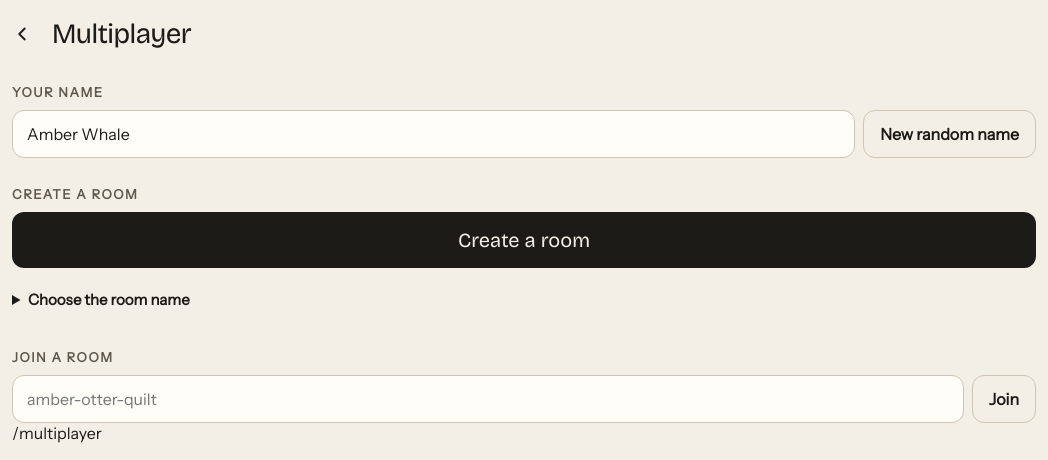
Test case: the lobby › shows the ready countdown once more than half are ready
What coordinates should you click on to do the following:
click the button "Create a room"
I would click on:
 (524, 240)
Its box is x1=12 y1=212 x2=1036 y2=268.
Wait 600 ms
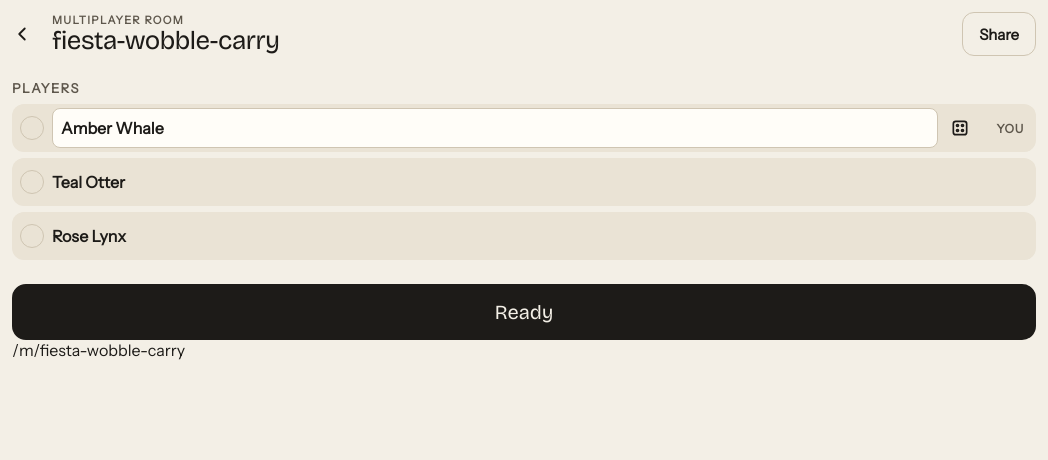
What coordinates should you click on to do the following:
click the button "Ready"
I would click on:
 (524, 312)
Its box is x1=12 y1=284 x2=1036 y2=340.
Wait 200 ms
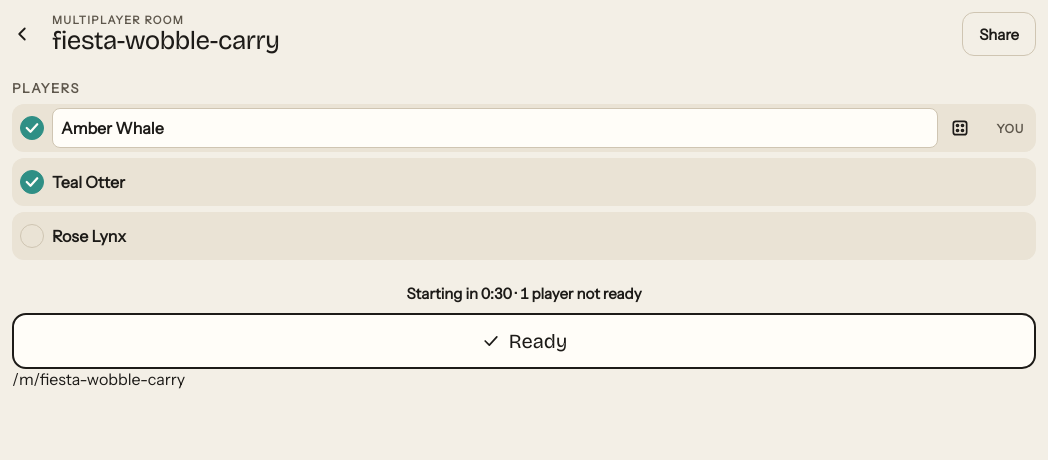
Expected: the text "Starting in 0:30 · 1 player not ready" is shown, x1=406 y1=284 x2=642 y2=303
